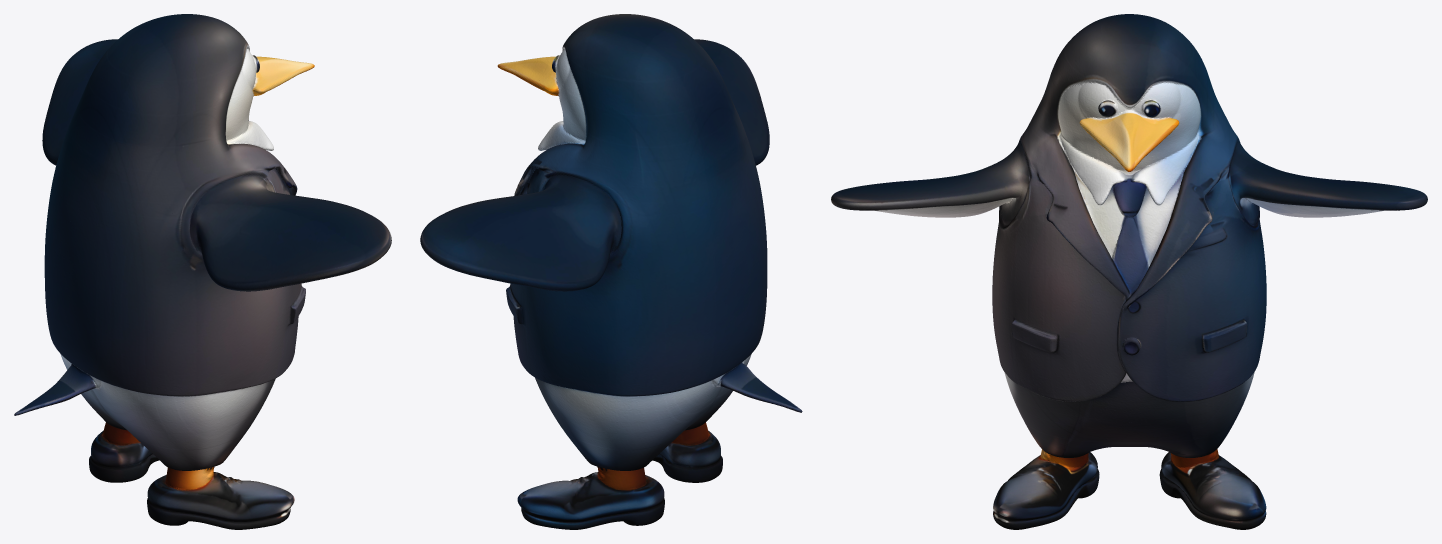
The model's file is penguin-new.glb.
The picture shows the model from 3 angles, left to right: view 1: azimuth 30°, elevation 25°; view 2: azimuth 150°, elevation 25°; view 3: azimuth 270°, elevation 25°; orthographic projection. The views are drawn at different scales.
Parts seen in each view (by area): view 1: tripo_node_9015c993-5d8c-4dfc-a7ad-ac40ece3e715; view 2: tripo_node_9015c993-5d8c-4dfc-a7ad-ac40ece3e715; view 3: tripo_node_9015c993-5d8c-4dfc-a7ad-ac40ece3e715.
Part boxes in pixels (x1,y1,x2,y2): tripo_node_9015c993-5d8c-4dfc-a7ad-ac40ece3e715: (14,14,391,529); tripo_node_9015c993-5d8c-4dfc-a7ad-ac40ece3e715: (420,14,802,529); tripo_node_9015c993-5d8c-4dfc-a7ad-ac40ece3e715: (831,14,1427,529).
Size of the model in its own units: 0.6061 by 0.8939 by 1.
Materials: 1 (1 with a texture image).
